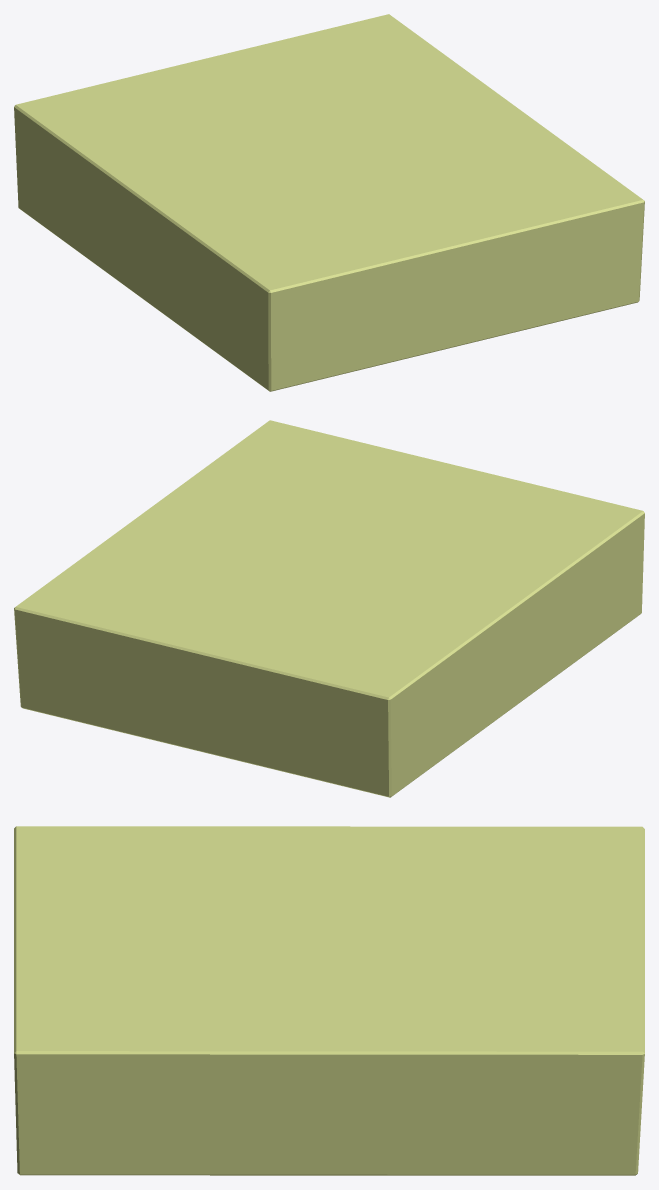
3 renders of one model, top to bottom at view 1: azimuth 30°, elevation 25°; view 2: azimuth 150°, elevation 25°; view 3: azimuth 270°, elevation 25°, orthographic. The views are drawn at different scales.
Parts seen in each view (by area): view 1: file_box_22; view 2: file_box_22; view 3: file_box_22.
Part boxes in pixels (x1=…): file_box_22: x1=14, y1=14, x2=644, y2=391; file_box_22: x1=14, y1=420, x2=644, y2=797; file_box_22: x1=14, y1=826, x2=644, y2=1175.
Size of the model in its own units: 0.2898 by 0.0762 by 0.3414.
